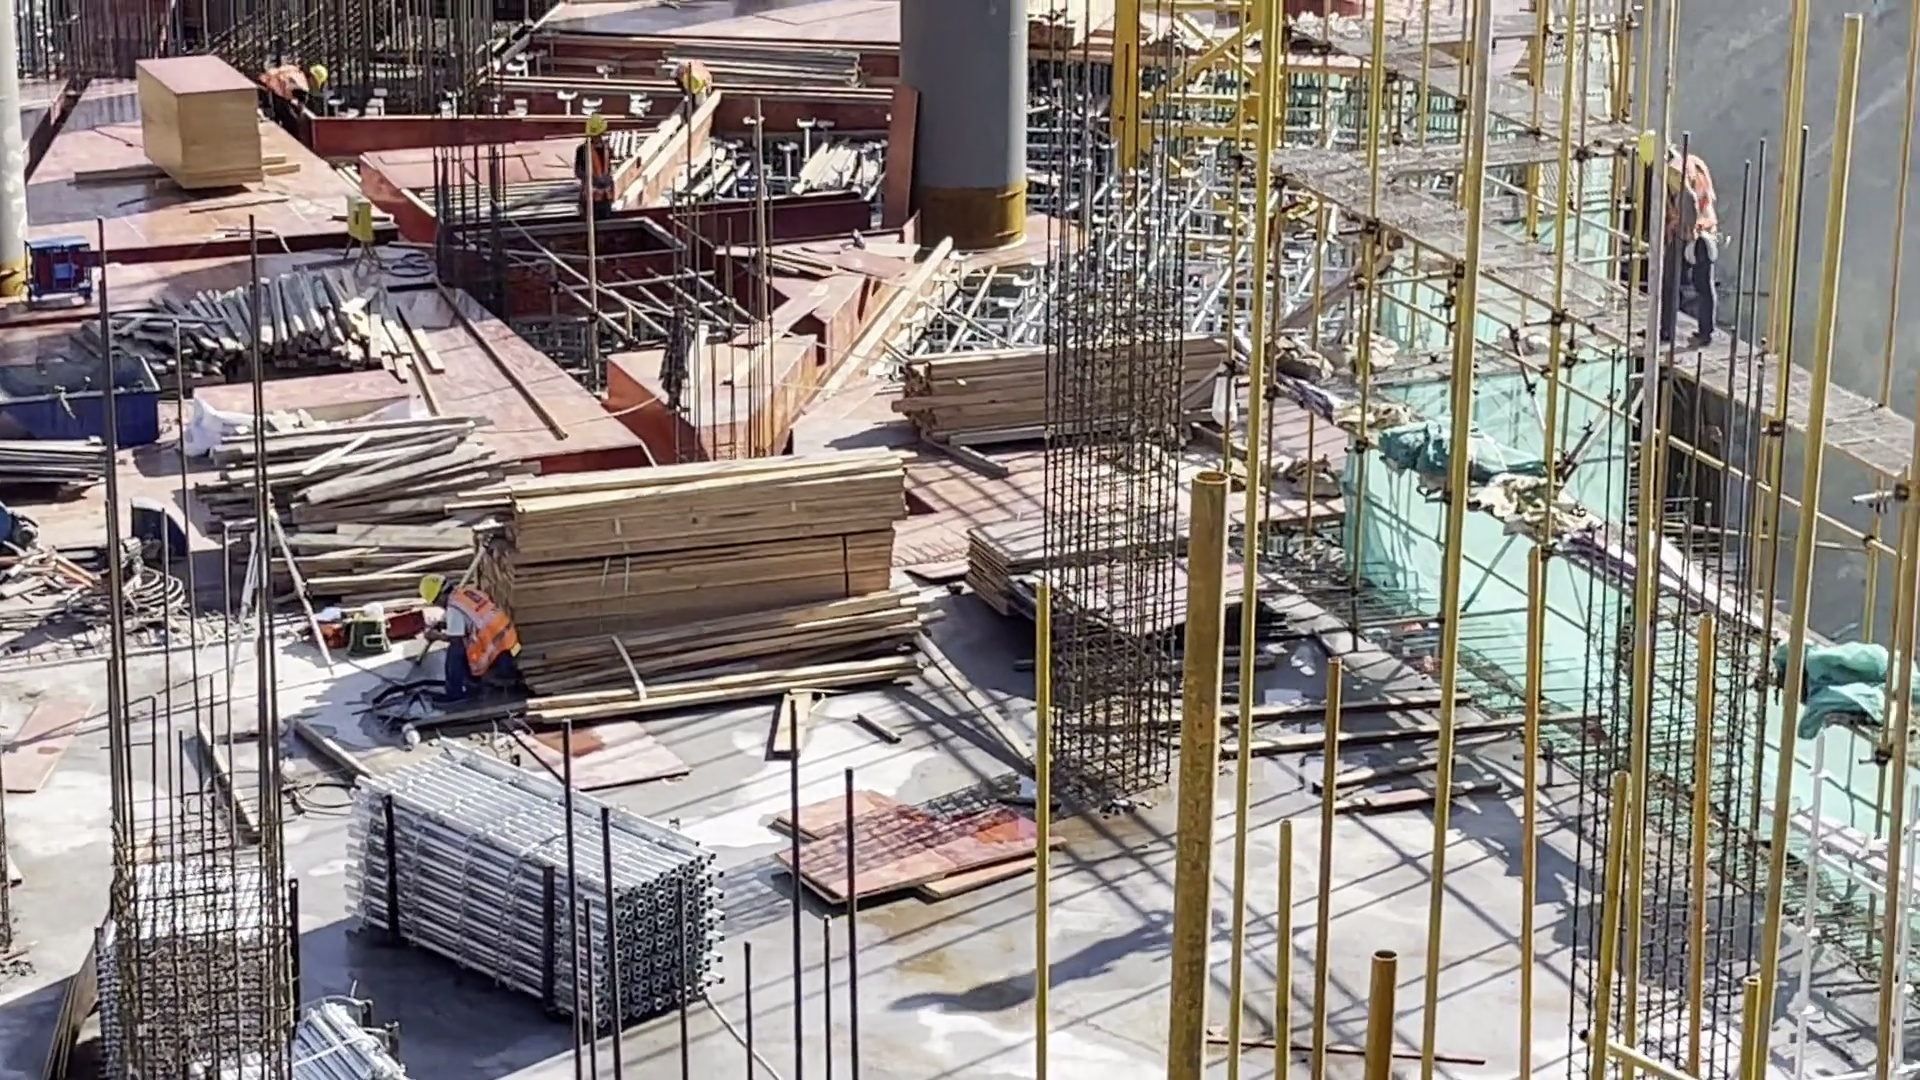board: (969, 505, 1284, 638), (122, 56, 269, 188)
helmet: (420, 576, 444, 605), (1644, 134, 1662, 165), (583, 117, 606, 137), (685, 72, 703, 95), (309, 64, 326, 85)
hopper: (1, 354, 159, 439)
person: (1647, 131, 1726, 350), (422, 579, 530, 698), (574, 113, 622, 216), (262, 59, 327, 114), (671, 64, 715, 111)
scaffold: (347, 741, 722, 1037)
vest: (448, 586, 521, 680), (1663, 158, 1720, 250), (582, 143, 614, 206), (263, 66, 303, 99)
wood: (448, 443, 925, 720), (210, 408, 503, 583), (128, 264, 435, 389), (895, 331, 1228, 446)
